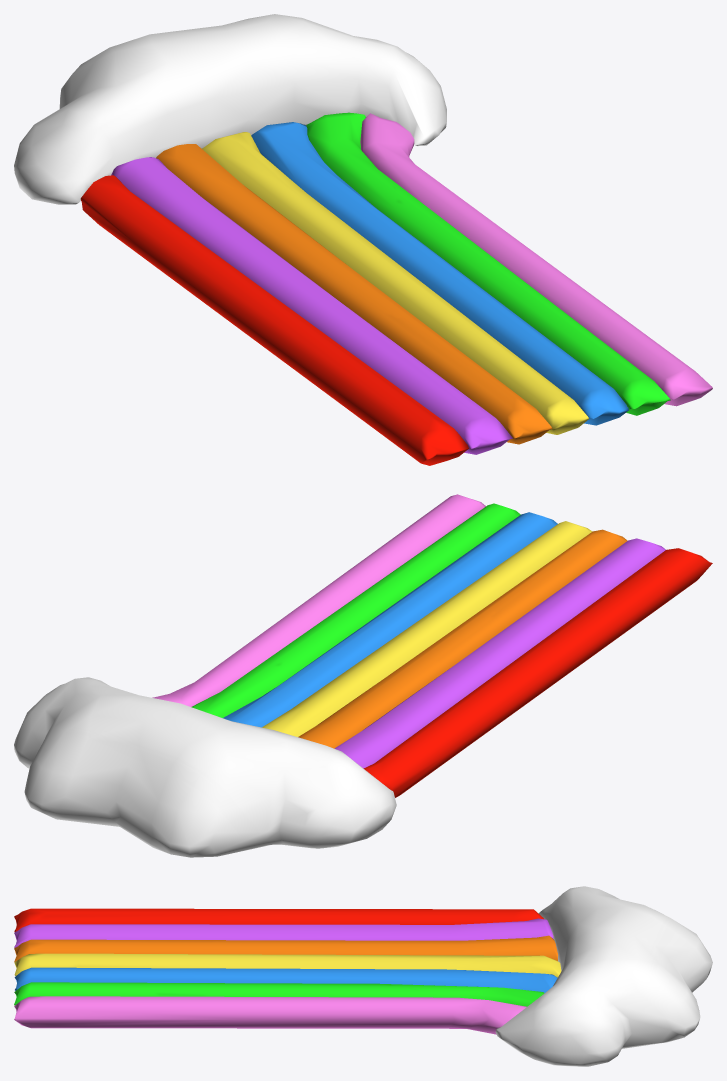
Rendered from gommone_arcobaleno_LOD2.fbx.
3 views of the same model, one above another, from view 1: azimuth 30°, elevation 25°; view 2: azimuth 150°, elevation 25°; view 3: azimuth 270°, elevation 25° (orthographic). The views are drawn at different scales.
Parts seen in each view (by area): view 1: Cube; view 2: Cube; view 3: Cube.
Part boxes in pixels (box(x1,y1,x2,y2)): Cube: box(14, 14, 712, 465); Cube: box(14, 494, 712, 857); Cube: box(14, 886, 712, 1066).
Size of the model in its own units: 438 by 111 by 889.
Materials: 1 (1 with a texture image).
